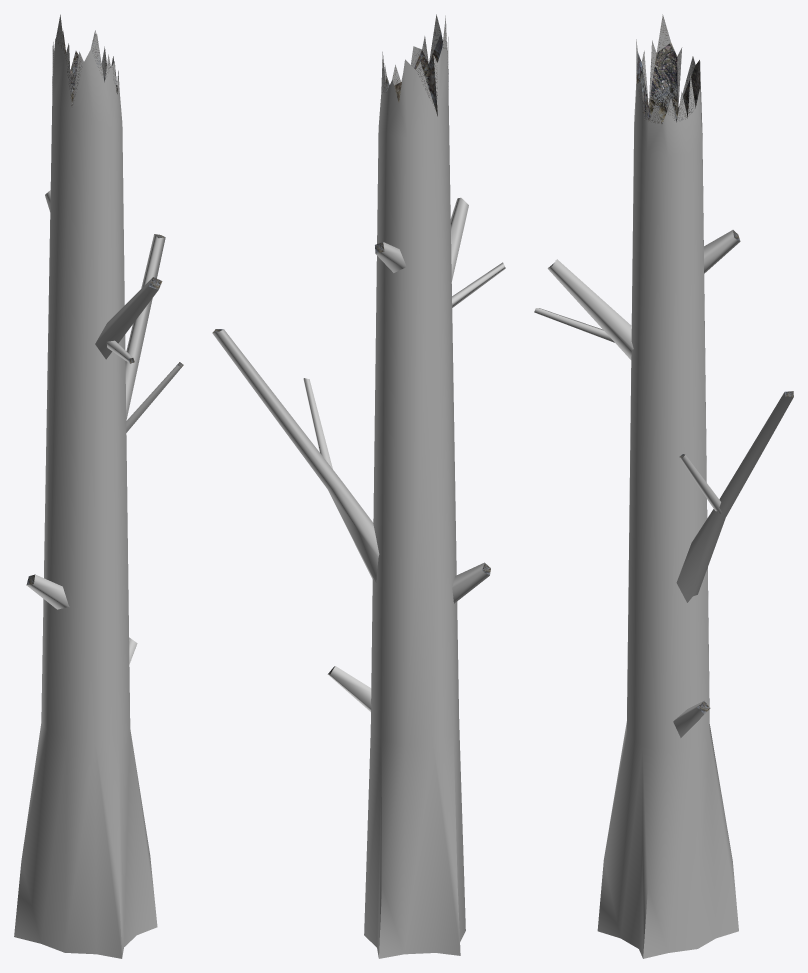
File: Trunk3_LOD.fbx
The picture shows the model from 3 angles, left to right: view 1: azimuth 30°, elevation 25°; view 2: azimuth 150°, elevation 25°; view 3: azimuth 270°, elevation 25°; orthographic projection. The views are drawn at different scales.
Visible parts, largest first — view 1: polySurface7; view 2: polySurface7; view 3: polySurface7.
Part boxes in pixels (x1=…): polySurface7: x1=14, y1=14, x2=183, y2=958; polySurface7: x1=212, y1=14, x2=505, y2=958; polySurface7: x1=534, y1=14, x2=793, y2=958.
Bounding box in the file's own units: 2.41 × 10.3 × 2.68.
